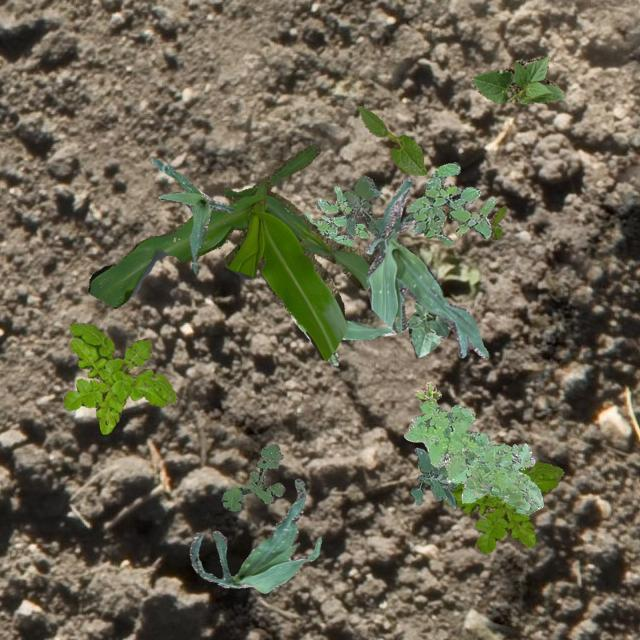crop: (86, 143, 374, 360), (363, 176, 488, 356), (188, 478, 320, 592), (150, 156, 233, 272), (290, 314, 396, 366), (358, 104, 426, 174), (471, 54, 564, 104), (406, 266, 448, 356)
weed: (403, 401, 542, 514), (62, 322, 176, 432), (442, 461, 562, 554), (412, 160, 496, 246), (220, 444, 284, 509), (304, 184, 368, 246), (410, 446, 460, 506), (342, 174, 381, 238), (406, 187, 460, 210), (414, 380, 440, 404), (488, 204, 506, 238)
